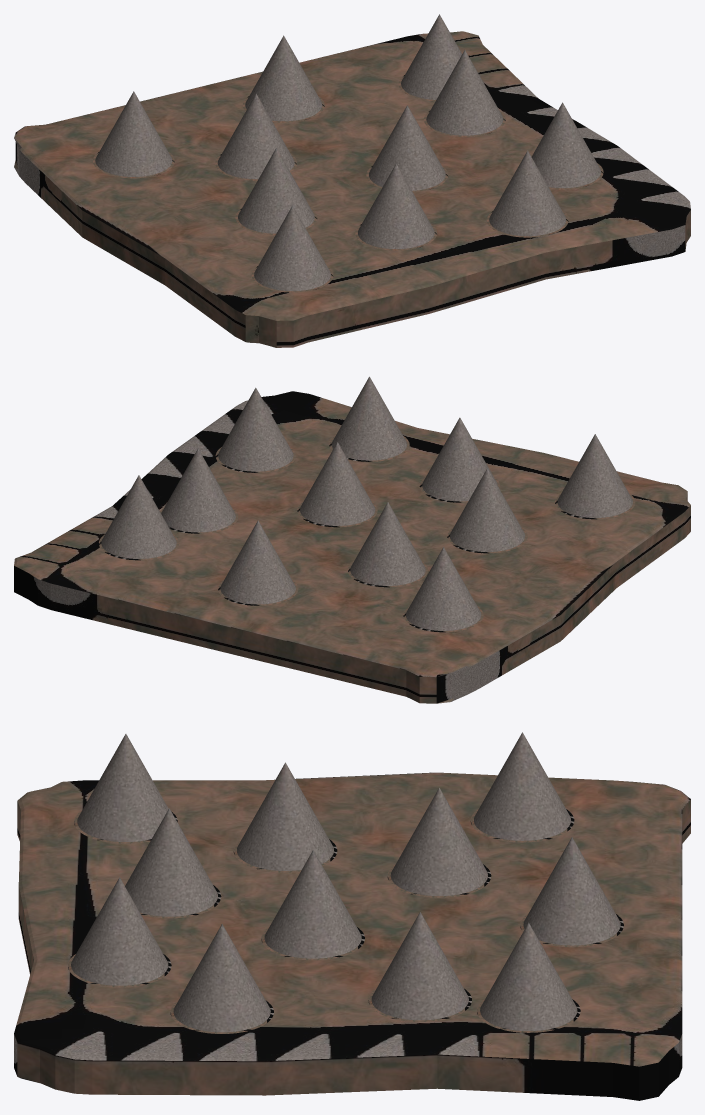
The model's file is Spikes.fbx.
The picture shows the model from 3 angles, top to bottom: view 1: azimuth 30°, elevation 25°; view 2: azimuth 150°, elevation 25°; view 3: azimuth 270°, elevation 25°; orthographic projection. The views are drawn at different scales.
Parts seen in each view (by area): view 1: AA_Block, CC_Cones, BB_Holes; view 2: AA_Block, CC_Cones, BB_Holes; view 3: AA_Block, CC_Cones, BB_Holes.
Boxes of the visible parts, <box> form: AA_Block: <box>14,31,690,347</box>; CC_Cones: <box>95,14,600,291</box>; BB_Holes: <box>93,75,603,292</box>; AA_Block: <box>14,391,690,703</box>; CC_Cones: <box>101,376,632,630</box>; BB_Holes: <box>99,436,635,632</box>; AA_Block: <box>14,772,690,1100</box>; CC_Cones: <box>71,732,620,1032</box>; BB_Holes: <box>68,809,623,1033</box>.
Bounding box in the file's own units: 208 × 43.56 × 203.
